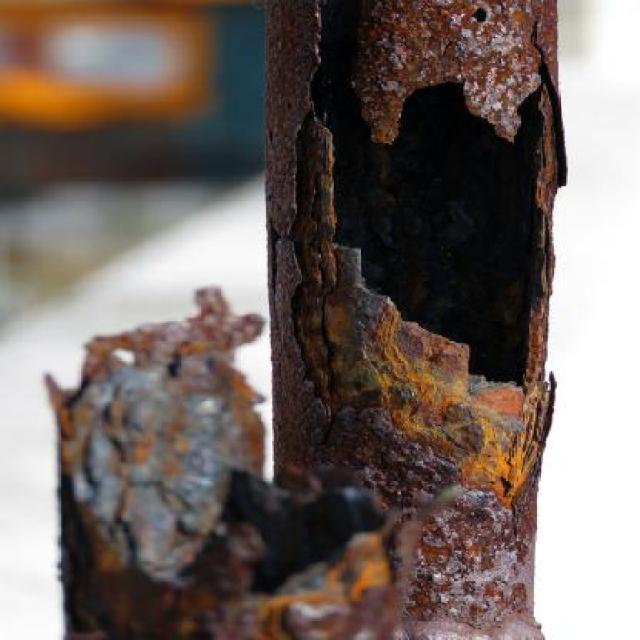corrosion: (48, 1, 569, 640)
